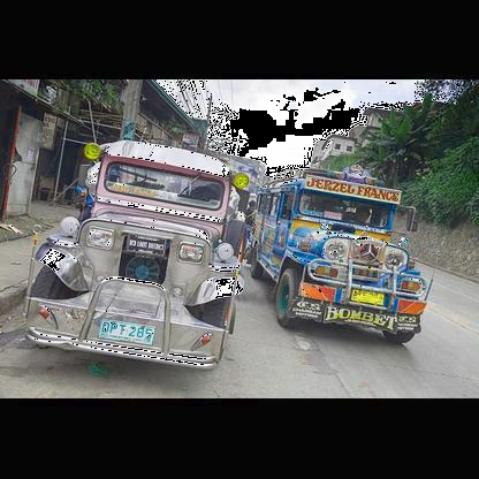jeepney: (24, 118, 266, 376), (235, 154, 443, 345)
